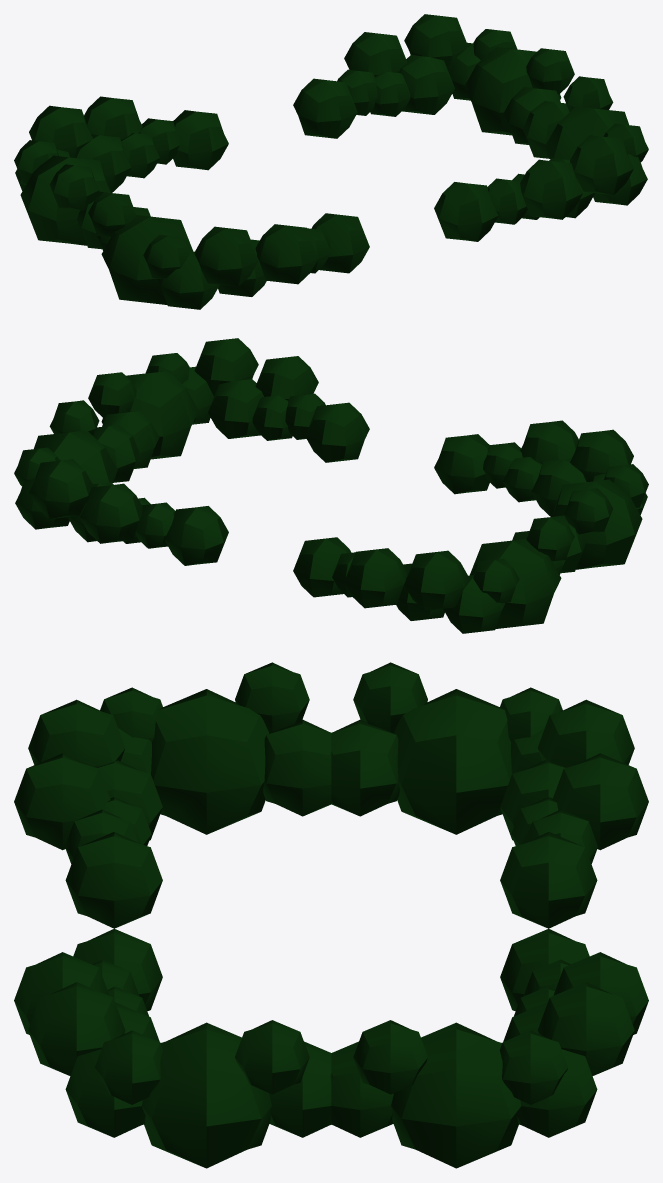
Rendered from Foliage.fbx.
3 renders of one model, top to bottom at view 1: azimuth 30°, elevation 25°; view 2: azimuth 150°, elevation 25°; view 3: azimuth 270°, elevation 25°, orthographic. The views are drawn at different scales.
Parts seen in each view (by area): view 1: Foliage; view 2: Foliage; view 3: Foliage.
Boxes of the visible parts, box(x1,y1,x2,y2) form: Foliage: box(14, 14, 648, 309); Foliage: box(14, 338, 648, 633); Foliage: box(14, 662, 648, 1168).
Size of the model in its own units: 3448 by 612 by 2338.
